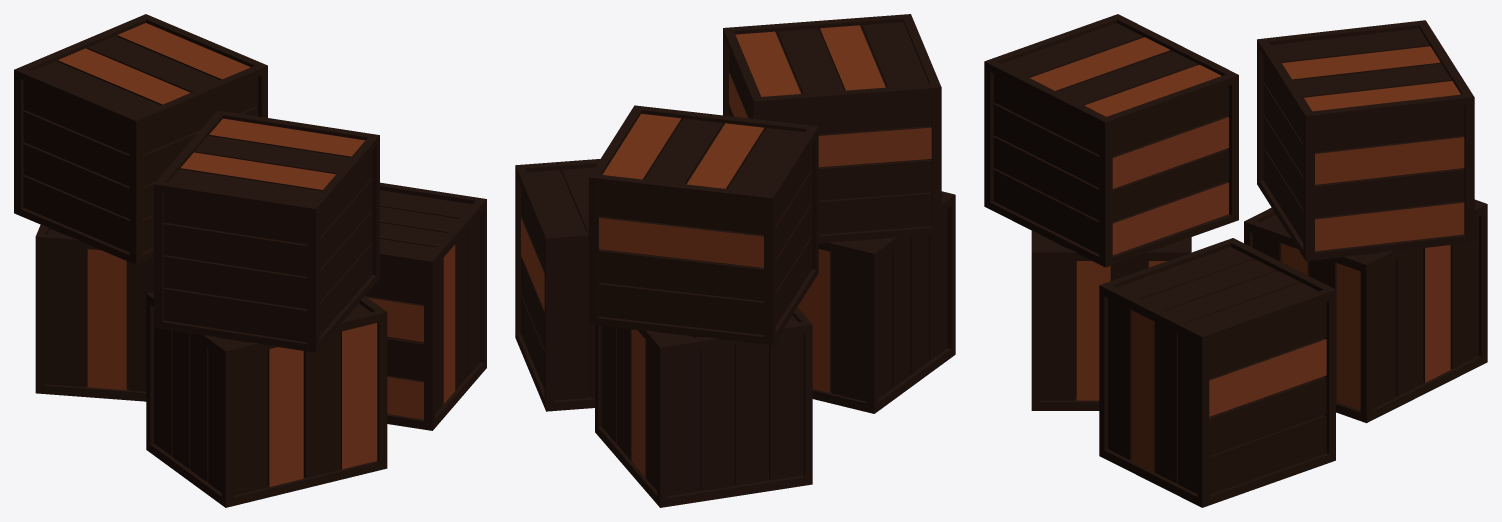
File: conjunto de caixas.fbx
3 views of the same model, side by side, from view 1: azimuth 30°, elevation 25°; view 2: azimuth 150°, elevation 25°; view 3: azimuth 270°, elevation 25° (orthographic). The views are drawn at different scales.
Parts seen in each view (by area): view 1: Caixa 006, Caixa 008, Caixa 005, Caixa 009, Caixa 007; view 2: Caixa 008, Caixa 006, Caixa 007, Caixa 005, Caixa 009; view 3: Caixa 009, Caixa 006, Caixa 008, Caixa 007, Caixa 005.
Part boxes in pixels (x1,y1,x2,y2): Caixa 006: (153,110,379,352); Caixa 008: (14,14,267,264); Caixa 005: (146,291,387,507); Caixa 009: (365,182,486,430); Caixa 007: (35,224,153,401); Caixa 008: (588,105,818,345); Caixa 006: (723,14,941,243); Caixa 007: (595,307,812,507); Caixa 005: (797,191,955,413); Caixa 009: (515,159,600,411); Caixa 009: (1099,238,1335,507); Caixa 006: (984,14,1238,267); Caixa 008: (1257,20,1474,261); Caixa 007: (1244,199,1487,423); Caixa 005: (1031,230,1191,410).
Size of the model in its own units: 1.81 by 1.41 by 2.09.
